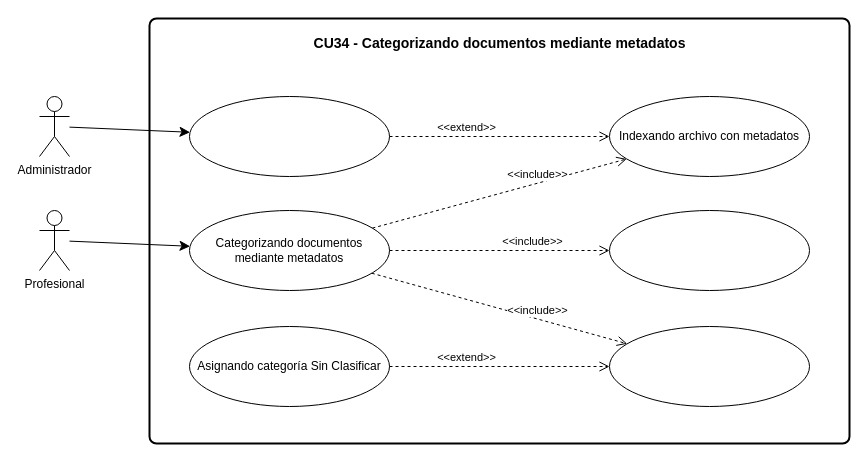
The diagram is 867 pixels wide and 461 high, and some of its shapes have lost their labels. Each missing label, with the centre of its shape:
Recuperando archivo mediante filtros de búsqueda: pixel 709 250
Reportando fallo de indexación: pixel 289 136
Seleccionando categoría taxonómica: pixel 709 366
